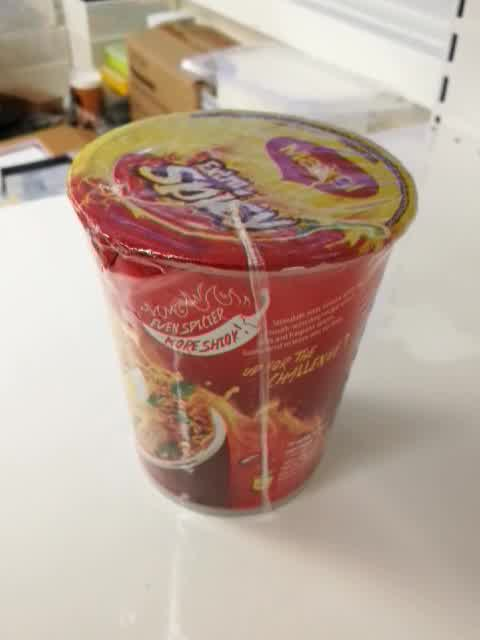maggi: (67, 108, 420, 519)
